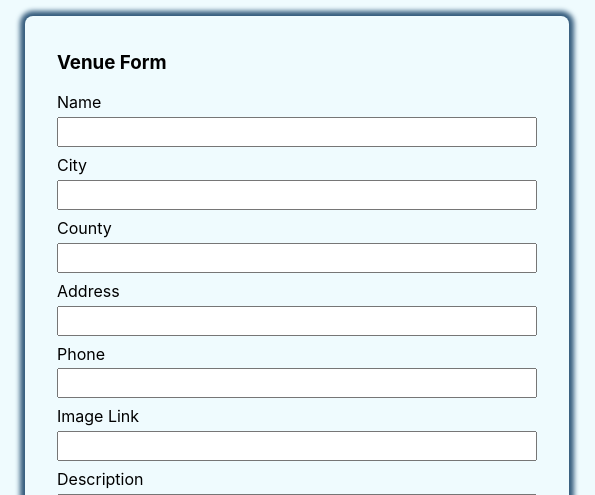
Test case: <CreateVenue /> › displays error message when incorrect input is entered in image field
Step 1. Type "djd8327b" into the field with test id "venue-imageLink-input" → x=297, y=446, box [57,431,537,461]
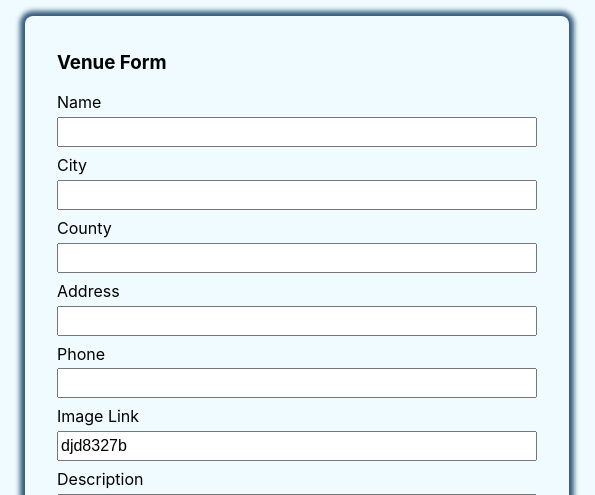
Step 2. Leave the field with test id "venue-imageLink-input", box [57,431,537,461]
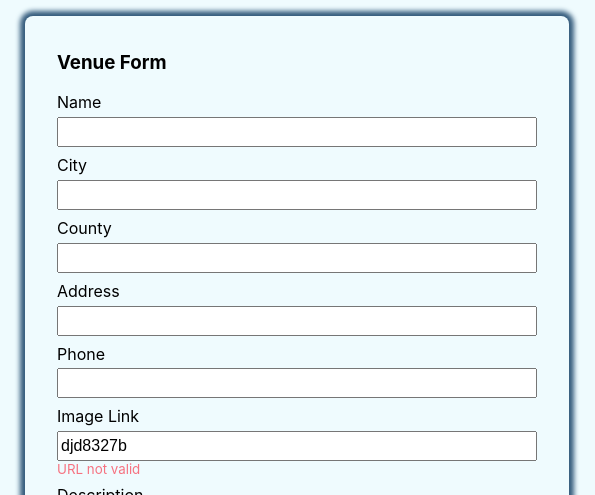
Check: the text with test id "venue-imageLink-input-error" reads "URL not valid", box [57,461,140,477]
